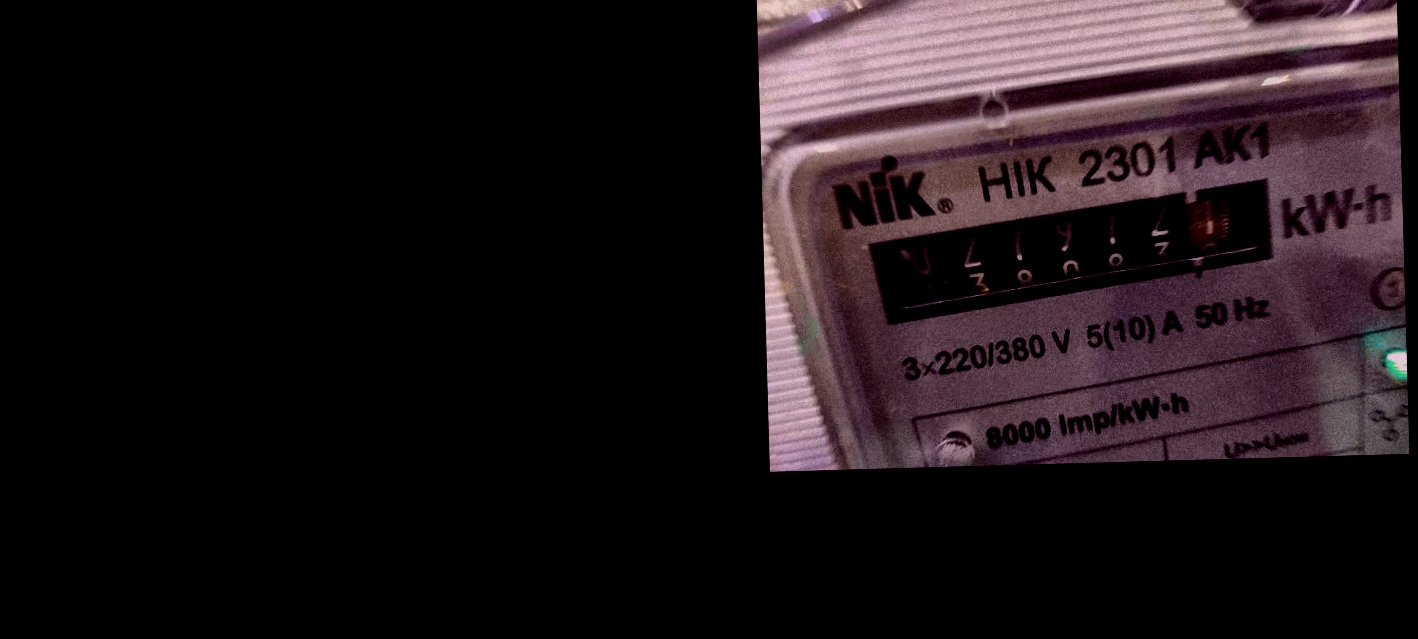0: (906, 239, 935, 275)
1: (1198, 194, 1221, 237)
2: (955, 228, 985, 268), (1144, 199, 1173, 237)
7: (1097, 205, 1125, 247), (1005, 224, 1029, 262)
9: (1052, 216, 1079, 251)
screen: (851, 167, 1307, 334)
